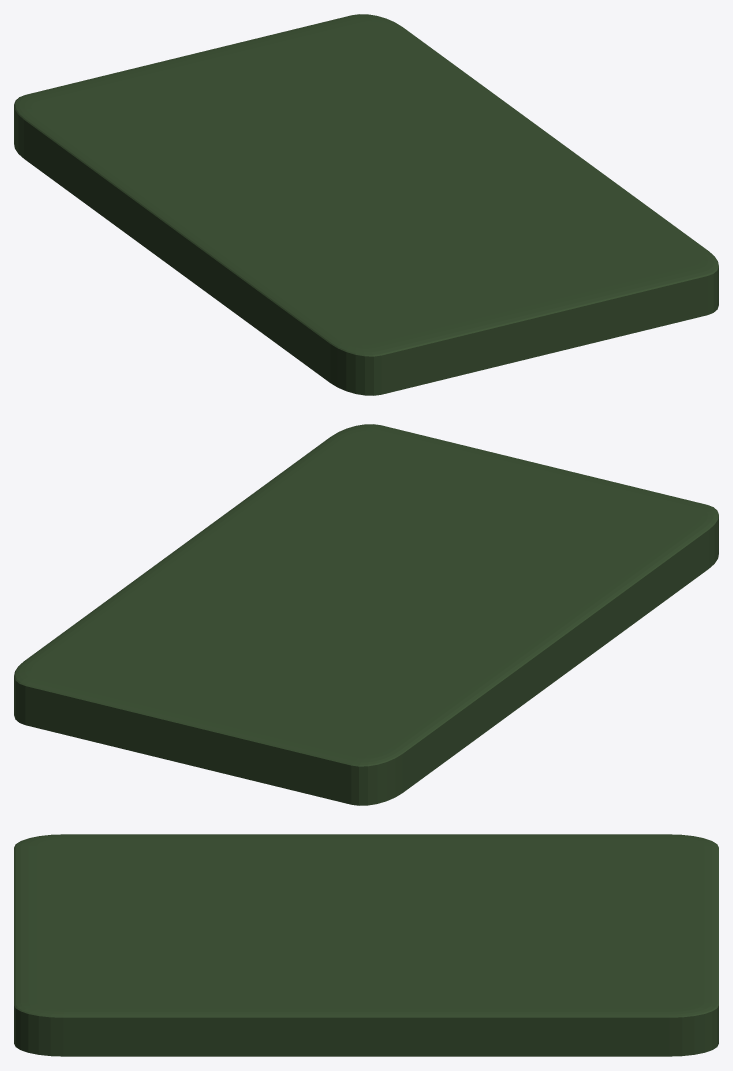
The model's file is Mattress.fbx.
The picture shows the model from 3 angles, top to bottom: view 1: azimuth 30°, elevation 25°; view 2: azimuth 150°, elevation 25°; view 3: azimuth 270°, elevation 25°; orthographic projection.
Parts seen in each view (by area): view 1: Mattress; view 2: Mattress; view 3: Mattress.
Boxes of the visible parts, left/top/right/bottom form: Mattress: left=14, top=14, right=718, bottom=395; Mattress: left=14, top=424, right=718, bottom=805; Mattress: left=14, top=834, right=718, bottom=1056.
Bounding box in the file's own units: 116 × 12.1 × 189.
